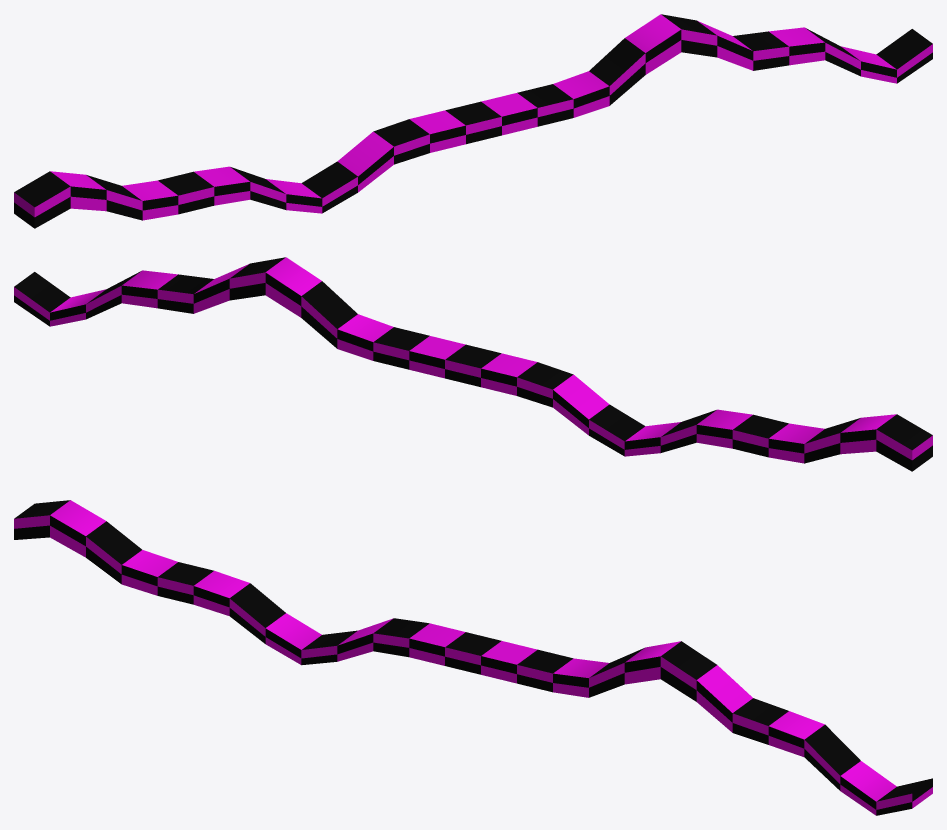
The model's file is TestStageProvisional2.fbx.
3 views of the same model, one above another, from view 1: azimuth 30°, elevation 25°; view 2: azimuth 150°, elevation 25°; view 3: azimuth 330°, elevation 25° (orthographic).
Visible parts, largest first — view 1: pCube1; view 2: pCube1; view 3: pCube1.
Boxes of the visible parts, left/top/right/bottom form: pCube1: left=14, top=14, right=932, bottom=228; pCube1: left=14, top=257, right=932, bottom=471; pCube1: left=14, top=500, right=932, bottom=815.
Bounding box in the file's own units: 50 × 5.69 × 2.
